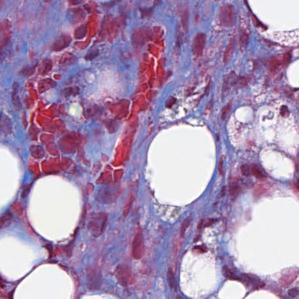ballooning: (142, 114, 220, 215)
